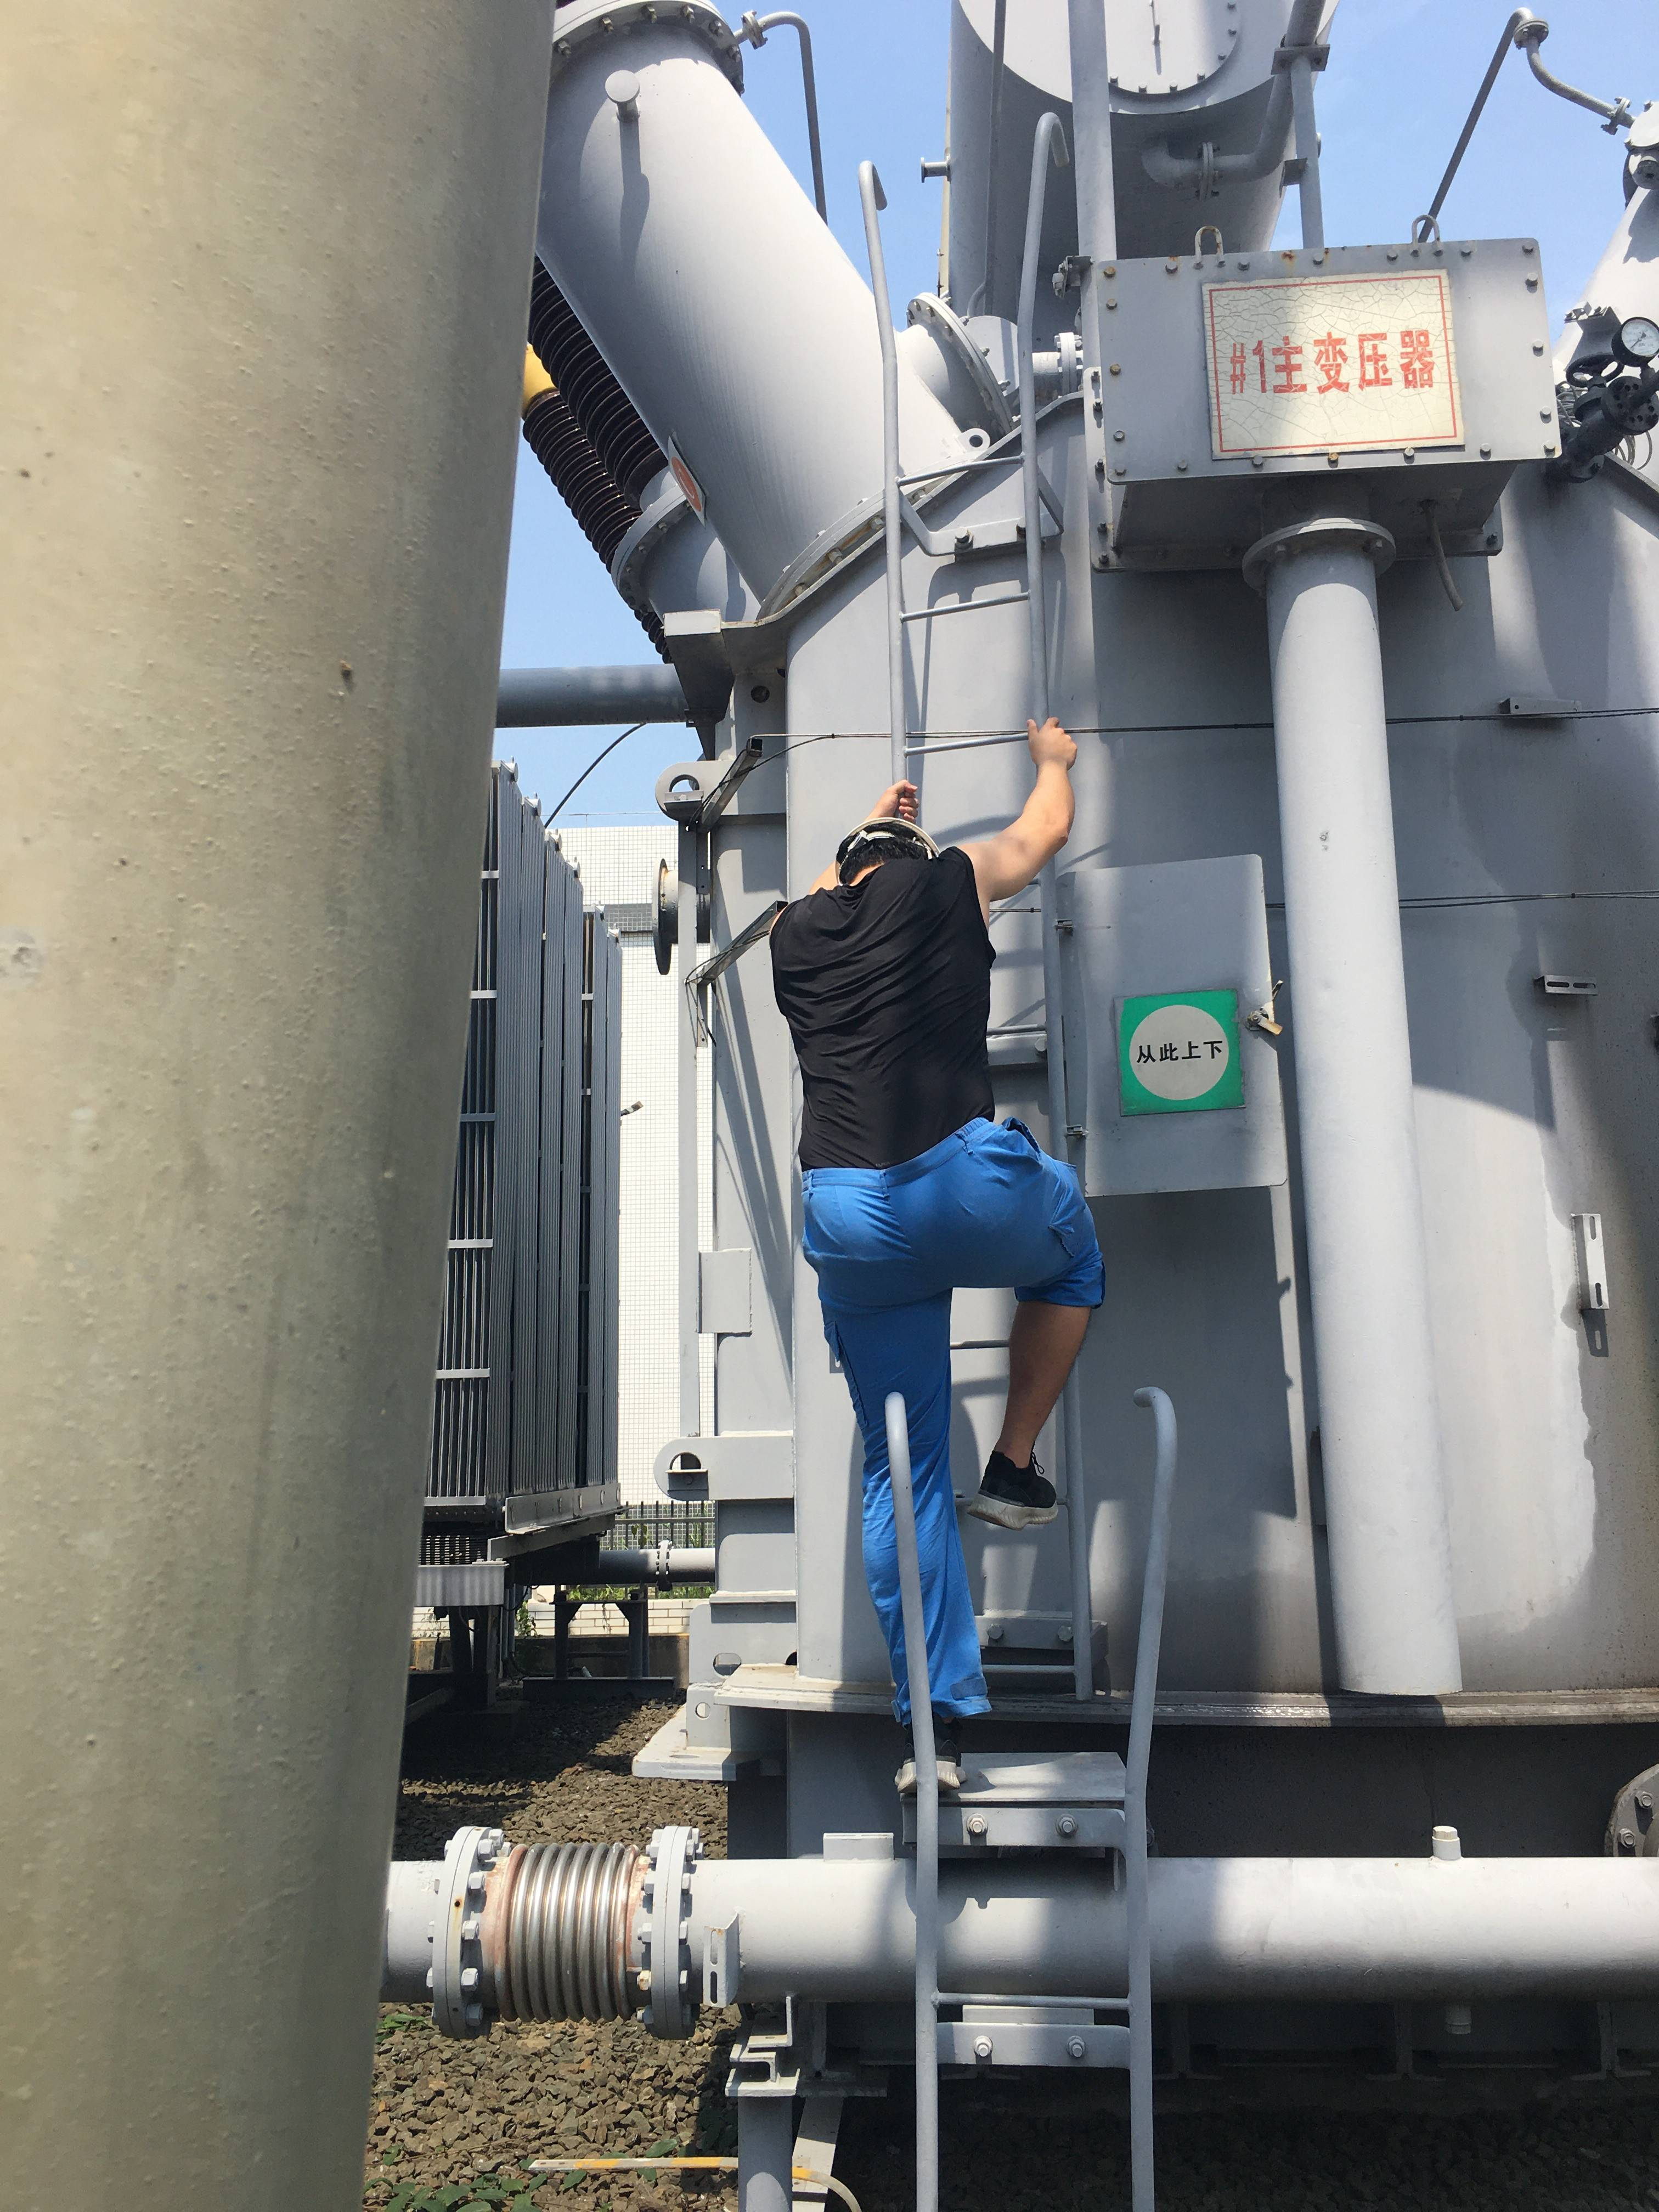downsuit: (798, 1165, 1107, 1728)
upcloth: (765, 845, 1006, 1148)
wrongbottom: (990, 1270, 1100, 1484)
